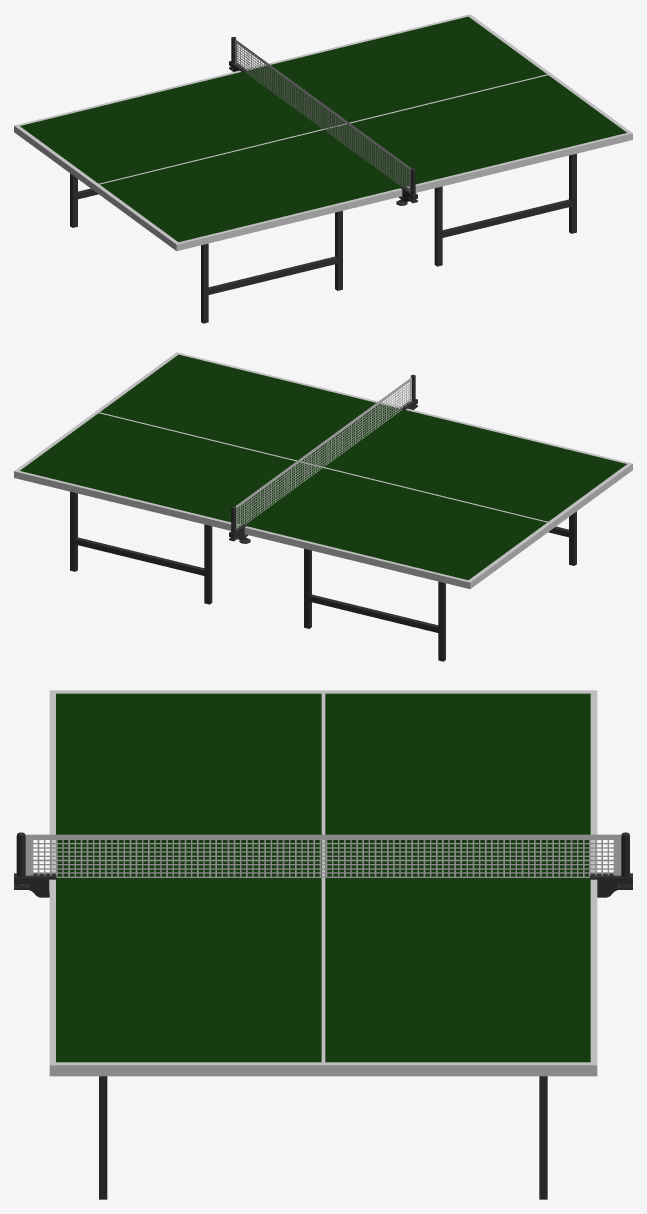
The model's file is freepolygon (128).fbx.fbx.
3 renders of one model, top to bottom at view 1: azimuth 30°, elevation 25°; view 2: azimuth 150°, elevation 25°; view 3: azimuth 270°, elevation 25°, orthographic. The views are drawn at different scales.
Visible parts, largest first — view 1: freepolygon.com; view 2: freepolygon.com; view 3: freepolygon.com.
Part boxes in pixels (x1,y1,x2,y2): freepolygon.com: [14, 14, 632, 323]; freepolygon.com: [14, 352, 632, 661]; freepolygon.com: [14, 690, 632, 1199].
Bounding box in the file's own units: 274 × 72.46 × 191.
